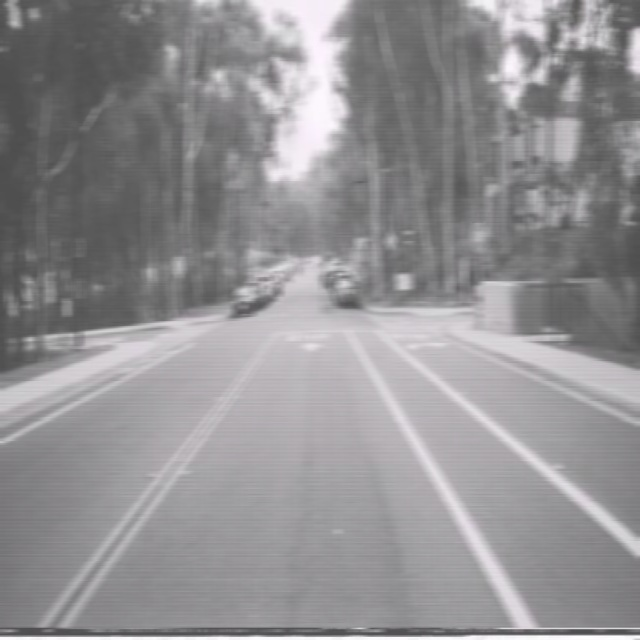stop: (471, 222, 486, 252)
